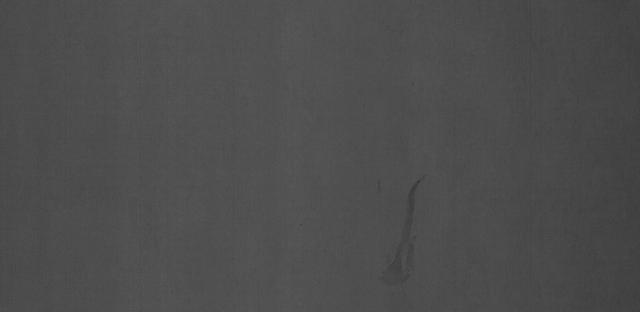water_spot: (372, 172, 451, 292)
